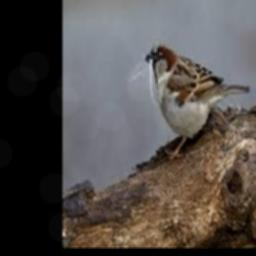Sparrow: (145, 42, 251, 158)
